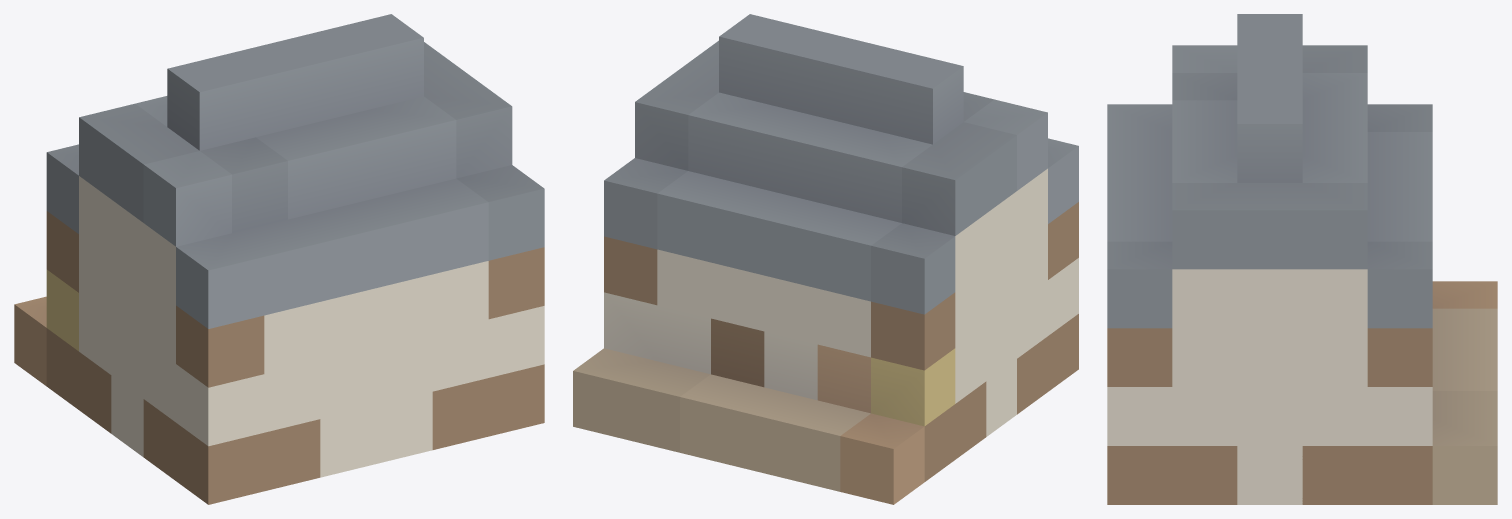
Rendered from house_merchants.lite.glb.
The picture shows the model from 3 angles, left to right: view 1: azimuth 30°, elevation 25°; view 2: azimuth 150°, elevation 25°; view 3: azimuth 270°, elevation 25°; orthographic projection. The views are drawn at different scales.
Parts seen in each view (by area): view 1: house_merchants; view 2: house_merchants; view 3: house_merchants.
Part boxes in pixels (x1,y1,x2,y2): house_merchants: [14, 14, 544, 504]; house_merchants: [573, 14, 1078, 504]; house_merchants: [1107, 14, 1497, 504].
Bounding box in the file's own units: 3 × 3 × 3.
